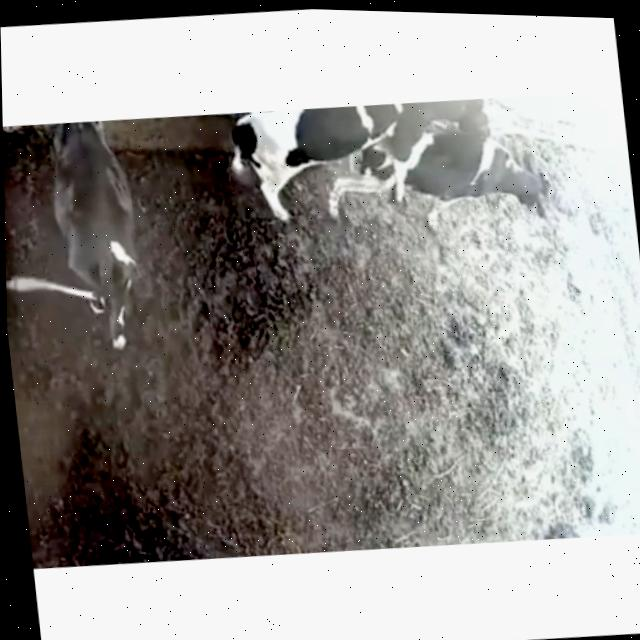ride: (220, 89, 509, 246)
